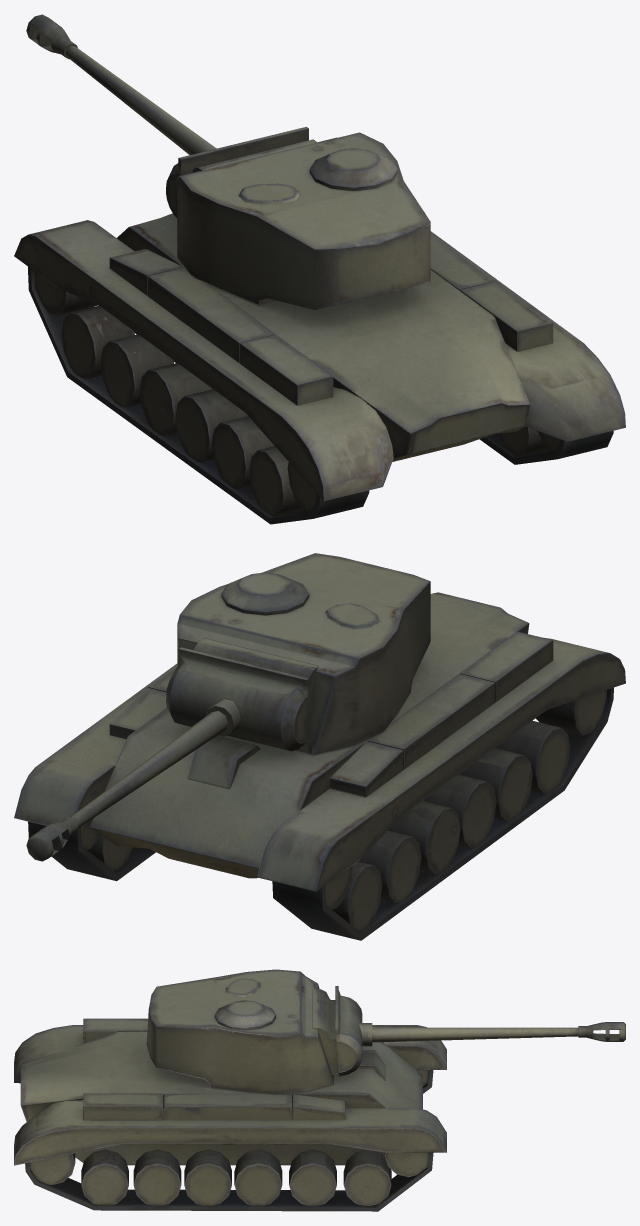
3 renders of one model, top to bottom at view 1: azimuth 30°, elevation 25°; view 2: azimuth 150°, elevation 25°; view 3: azimuth 270°, elevation 25°, orthographic. The views are drawn at different scales.
Visible parts, largest first — view 1: M26 Hull, M26 Turret; view 2: M26 Hull, M26 Turret; view 3: M26 Hull, M26 Turret.
Boxes of the visible parts, box(x1,y1,x2,y2) form: M26 Hull: box(14, 213, 625, 524); M26 Turret: box(26, 14, 430, 309); M26 Hull: box(14, 592, 625, 940); M26 Turret: box(26, 553, 430, 861); M26 Hull: box(14, 1018, 446, 1211); M26 Turret: box(146, 969, 625, 1093).
Size of the model in its own units: 3.74 by 2.85 by 9.39.
